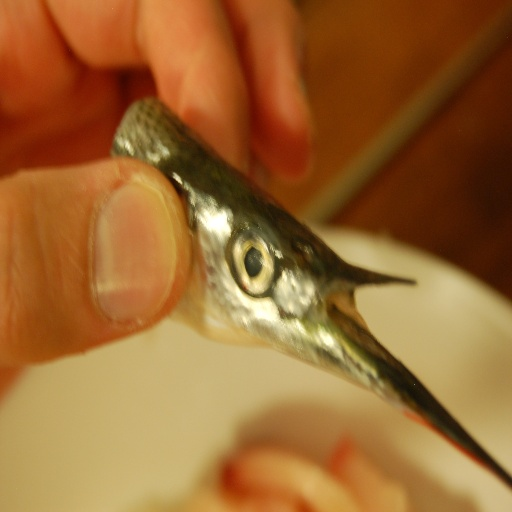hand: (0, 0, 321, 372)
